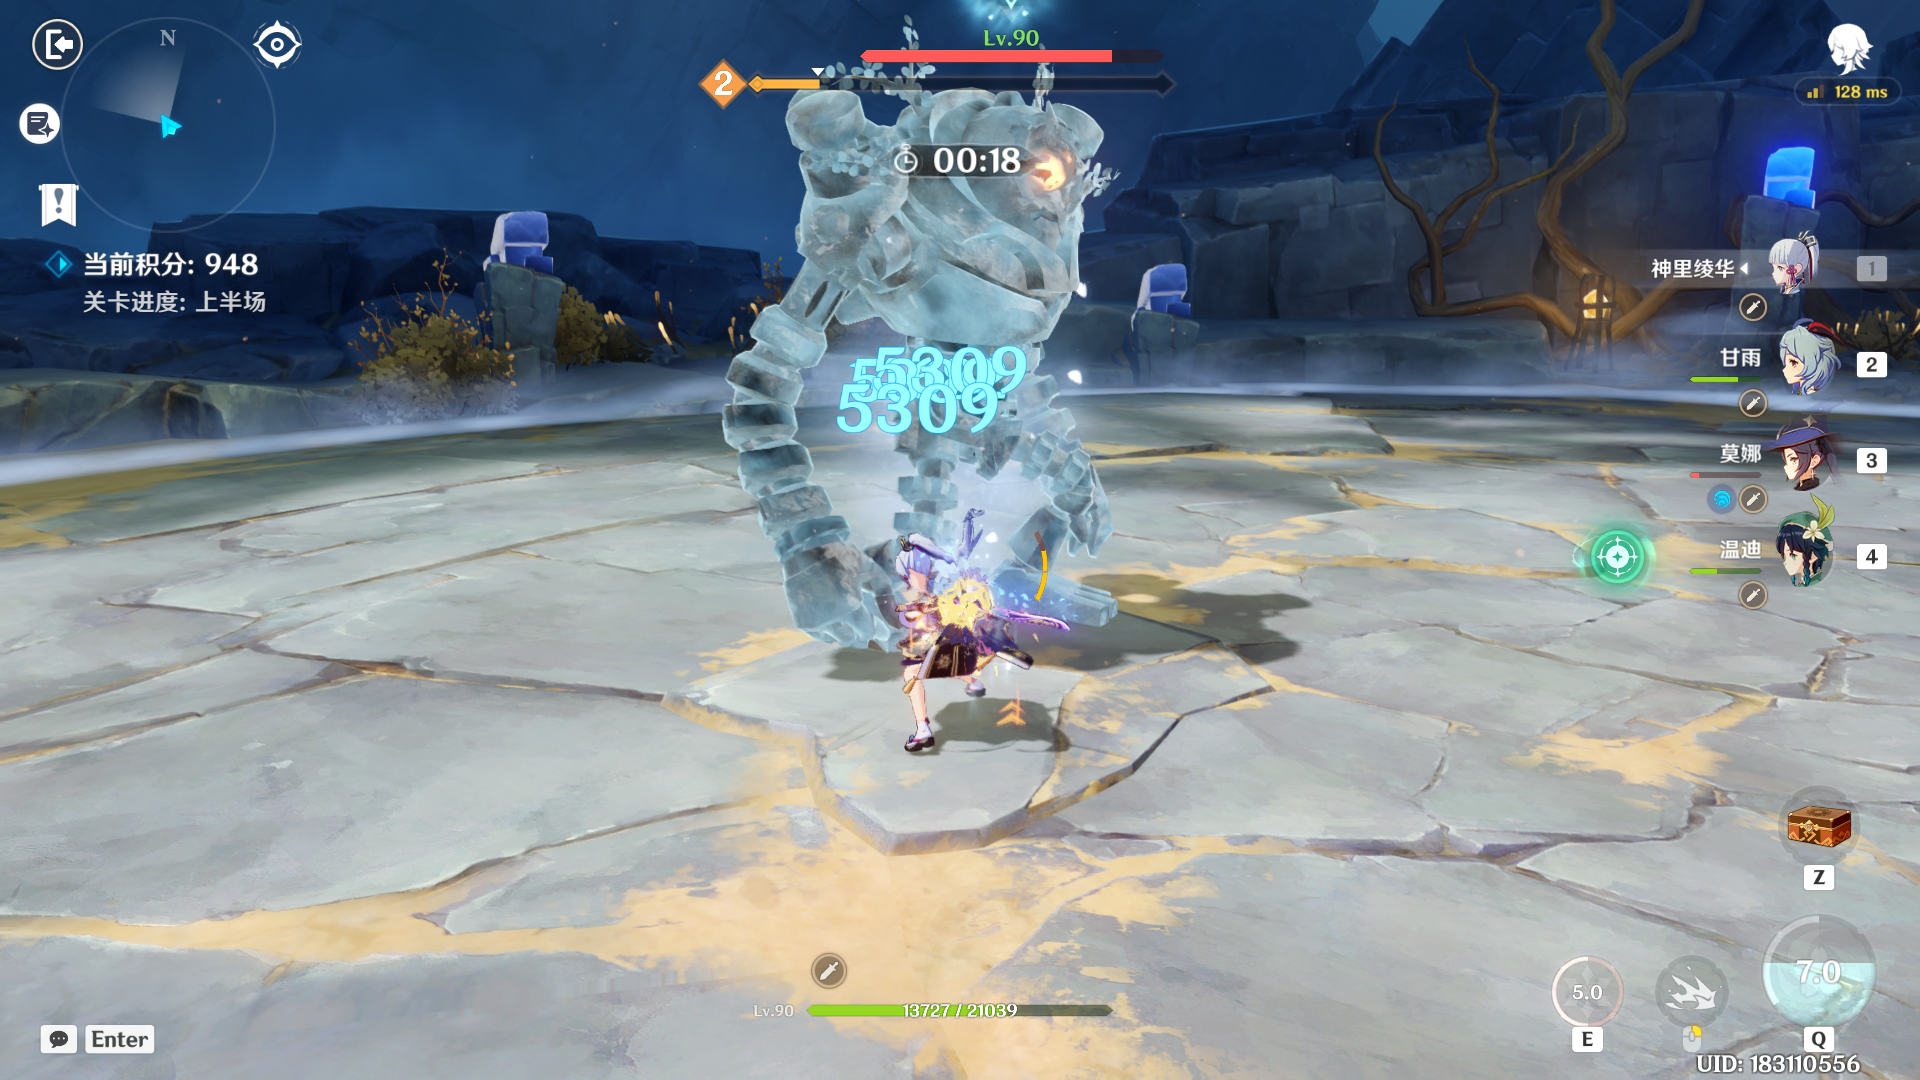character: (852, 498, 1040, 769)
